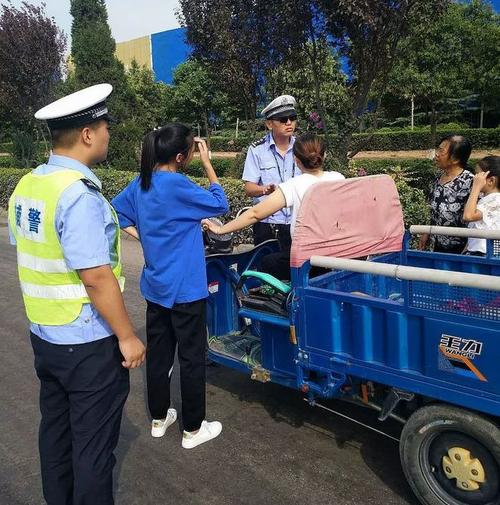driver: (264, 139, 353, 279)
overloading: (166, 115, 500, 486)
passenger: (128, 128, 241, 450)
